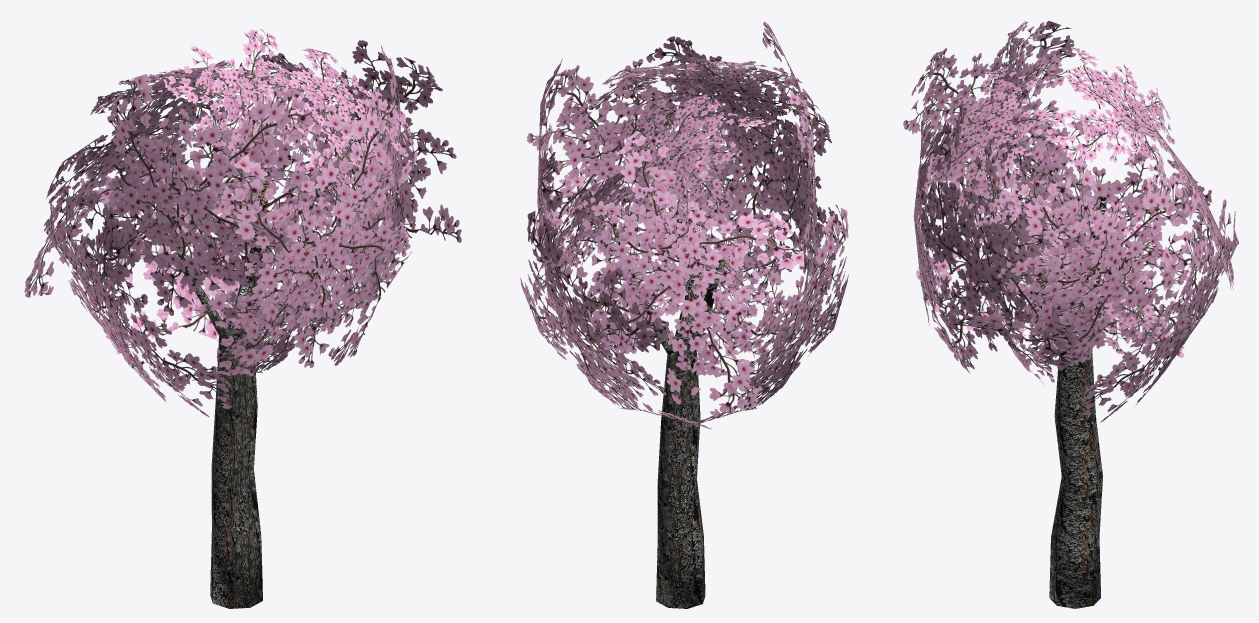
Rendered from arbol-rosa.fbx.
3 renders of one model, left to right at view 1: azimuth 30°, elevation 25°; view 2: azimuth 150°, elevation 25°; view 3: azimuth 270°, elevation 25°, orthographic. The views are drawn at different scales.
Visible parts, largest first — view 1: Plane002, Plane005, Cylinder001, Plane011, Plane009, Plane010, Plane006, Plane004, Plane013, Plane003, Plane012, Plane008 (+1 smaller); view 2: Plane010, Cylinder001, Plane003, Plane013, Plane002, Plane011, Plane012, Plane006, Plane005, Plane008, Plane009, Plane007 (+1 smaller); view 3: Plane009, Plane003, Cylinder001, Plane005, Plane004, Plane013, Plane012, Plane011, Plane007, Plane002, Plane006, Plane010 (+1 smaller).
Part boxes in pixels (<box>): Plane002: <box>199,91,417,376</box>; Plane005: <box>76,74,321,338</box>; Cylinder001: <box>169,180,269,608</box>; Plane011: <box>46,186,230,417</box>; Plane009: <box>238,40,461,270</box>; Plane010: <box>24,60,264,297</box>; Plane006: <box>163,29,320,195</box>; Plane004: <box>241,48,413,177</box>; Plane013: <box>80,110,387,354</box>; Plane003: <box>313,45,403,365</box>; Plane012: <box>90,65,303,124</box>; Plane008: <box>191,235,339,380</box>; Plane010: <box>536,131,804,417</box>; Cylinder001: <box>614,224,723,608</box>; Plane003: <box>527,56,739,296</box>; Plane013: <box>520,207,711,429</box>; Plane002: <box>645,36,846,295</box>; Plane011: <box>672,205,848,432</box>; Plane012: <box>614,93,775,227</box>; Plane006: <box>639,57,815,161</box>; Plane005: <box>757,21,818,308</box>; Plane008: <box>613,210,792,362</box>; Plane009: <box>537,59,595,349</box>; Plane007: <box>533,155,659,296</box>; Plane009: <box>948,161,1200,370</box>; Plane003: <box>919,102,1084,370</box>; Cylinder001: <box>1027,196,1111,608</box>; Plane005: <box>903,21,1103,295</box>; Plane004: <box>924,67,1070,226</box>; Plane013: <box>1083,199,1238,422</box>; Plane012: <box>1057,47,1174,194</box>; Plane011: <box>916,131,1211,357</box>; Plane007: <box>987,206,1167,354</box>; Plane002: <box>913,90,969,373</box>; Plane006: <box>984,21,1067,187</box>; Plane010: <box>1123,106,1233,289</box>.
Bounding box in the file's own units: 2.46 × 3.81 × 2.2.
2 materials, 2 textured.
